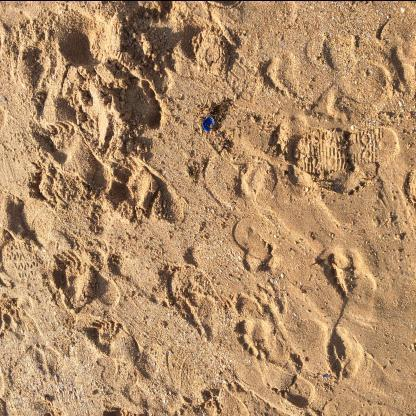plastik: (204, 116, 216, 132)
